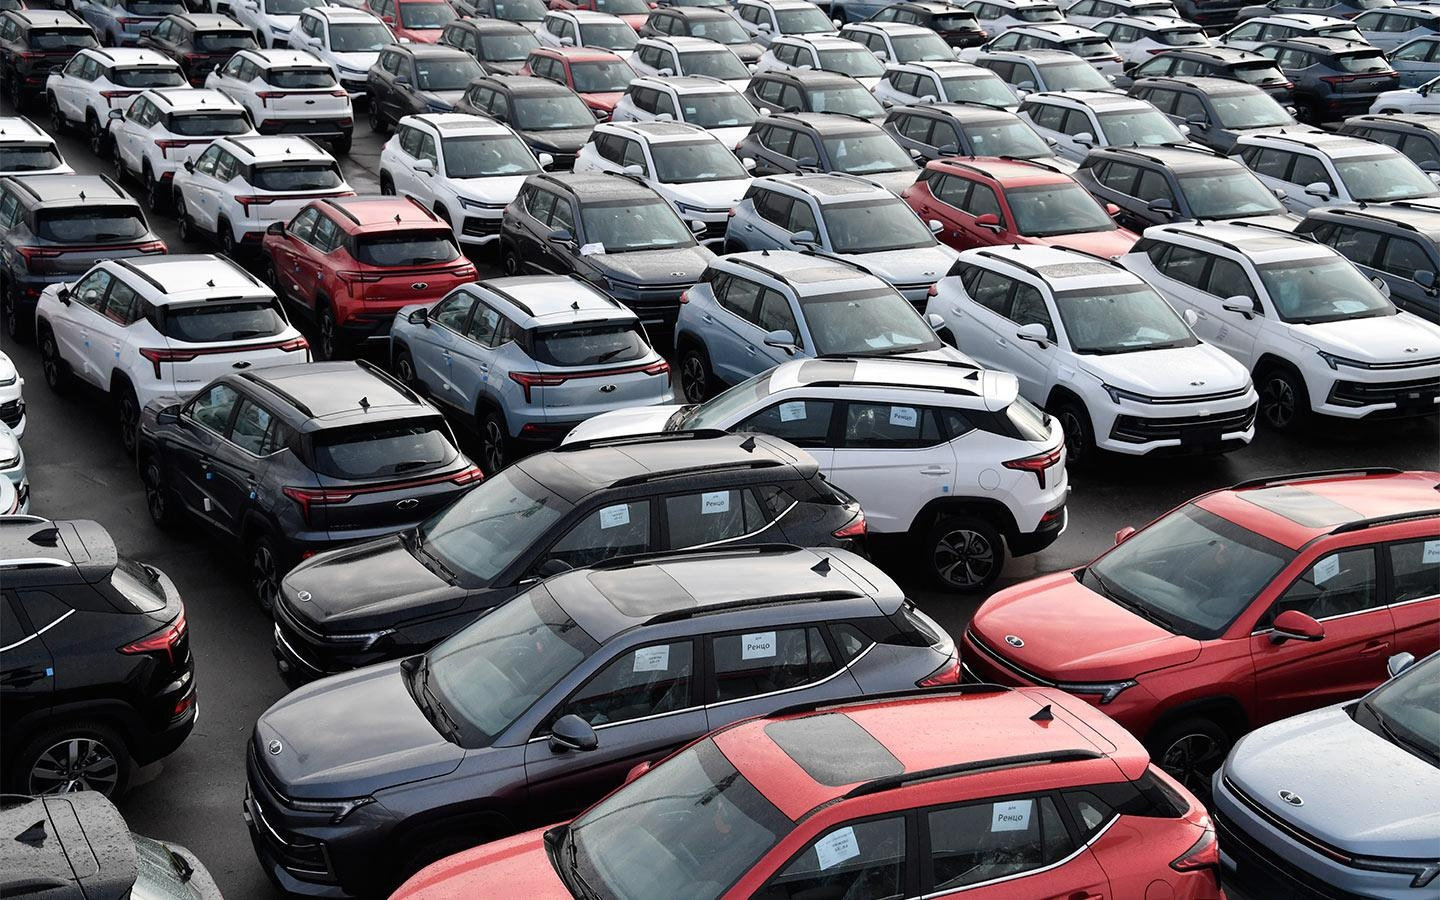Car: (244, 549, 960, 900), (389, 683, 1225, 900), (961, 468, 1440, 811), (272, 431, 868, 687), (560, 357, 1069, 594), (138, 361, 483, 611), (925, 245, 1258, 468), (1118, 223, 1440, 432), (389, 273, 677, 475), (1210, 649, 1440, 900), (0, 515, 199, 800), (34, 254, 312, 452), (674, 250, 983, 402), (500, 169, 716, 338), (260, 195, 479, 361), (724, 169, 960, 315), (0, 174, 168, 340), (900, 156, 1139, 260), (0, 791, 223, 900), (379, 113, 554, 250), (172, 134, 358, 261), (572, 120, 757, 248), (1075, 142, 1304, 235), (108, 88, 260, 216), (1226, 129, 1440, 216), (1297, 204, 1440, 324), (45, 48, 194, 156), (204, 49, 354, 156), (881, 99, 1079, 178), (1127, 76, 1327, 154), (450, 75, 609, 173), (734, 111, 922, 194), (1105, 46, 1301, 123), (1016, 88, 1216, 162), (1251, 37, 1399, 128), (610, 75, 770, 152), (287, 3, 398, 104), (366, 43, 489, 132), (0, 9, 103, 111), (514, 45, 641, 123), (135, 13, 260, 88), (958, 24, 1123, 76), (743, 68, 893, 125), (869, 60, 1026, 114), (639, 5, 767, 67), (625, 35, 758, 93), (754, 35, 886, 91), (972, 48, 1128, 95), (1091, 16, 1211, 73), (434, 18, 545, 76), (1336, 113, 1440, 174), (1207, 13, 1372, 50), (860, 1, 988, 48), (837, 21, 963, 67), (76, 0, 190, 48), (534, 9, 641, 60), (731, 0, 841, 48), (228, 0, 329, 49), (0, 116, 77, 177), (1350, 4, 1440, 52), (1234, 0, 1397, 26), (962, 0, 1067, 40), (361, 0, 460, 43), (548, 0, 658, 33), (829, 0, 940, 31), (1063, 0, 1181, 29), (447, 0, 548, 32), (1384, 35, 1440, 89), (0, 420, 30, 515), (1368, 75, 1440, 114), (1171, 0, 1252, 30), (0, 350, 27, 439), (656, 0, 735, 15), (0, 473, 22, 515), (192, 0, 230, 15), (48, 0, 81, 12)
